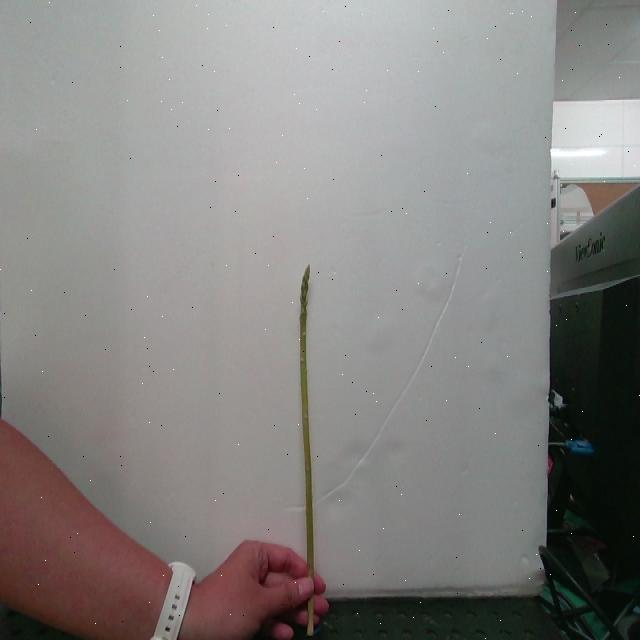aspargus: (298, 266, 318, 583)
